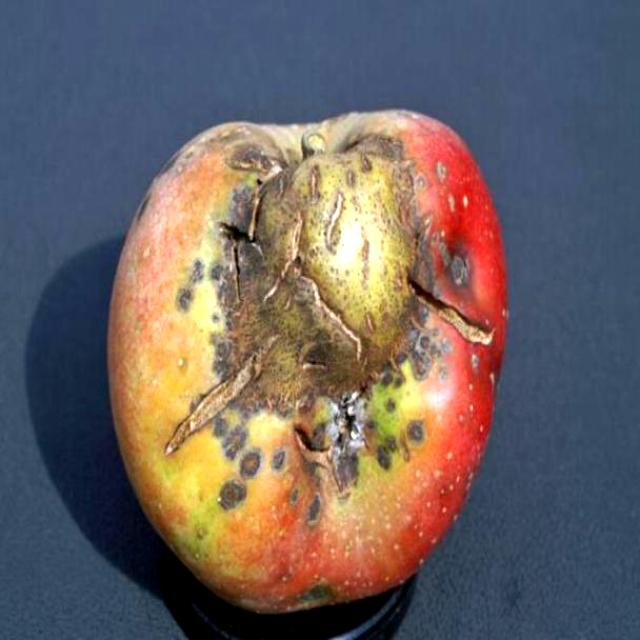SCAB: (112, 88, 522, 617)
